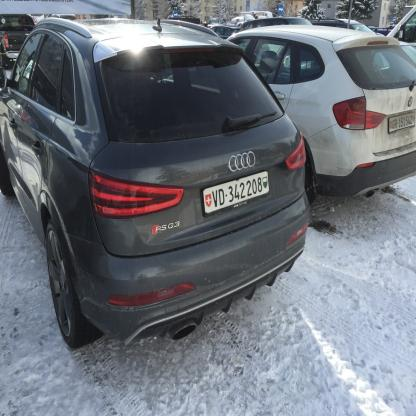Car: (1, 6, 416, 350)
